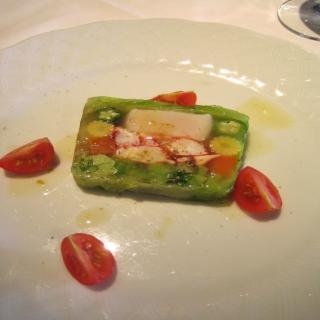tomato: (232, 164, 288, 222), (59, 232, 120, 285), (0, 136, 54, 174), (147, 90, 198, 106)
